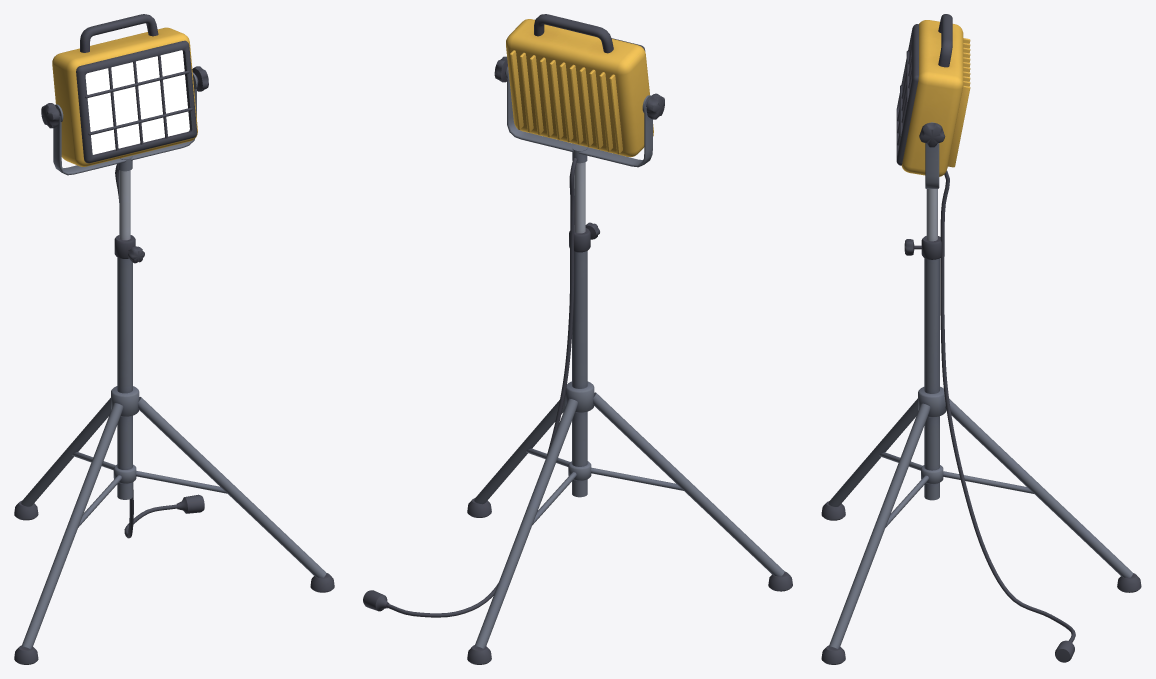
File: WorkLamp.glb
3 renders of one model, left to right at view 1: azimuth 30°, elevation 25°; view 2: azimuth 150°, elevation 25°; view 3: azimuth 270°, elevation 25°, orthographic.
Visible parts, largest first — view 1: work-lamp_body, work-lamp_head, work-lamp_lens_panel; view 2: work-lamp_body, work-lamp_head; view 3: work-lamp_body, work-lamp_head.
Boxes of the visible parts, x1,y1,x2,y2 form: work-lamp_body: [14, 66, 334, 664]; work-lamp_head: [52, 14, 197, 166]; work-lamp_lens_panel: [85, 50, 189, 154]; work-lamp_body: [363, 56, 792, 664]; work-lamp_head: [506, 14, 653, 157]; work-lamp_body: [821, 122, 1141, 664]; work-lamp_head: [896, 14, 970, 176].
Size of the model in its own units: 0.7795 by 1.33 by 0.682.
Materials: 3 (2 with a texture image).
